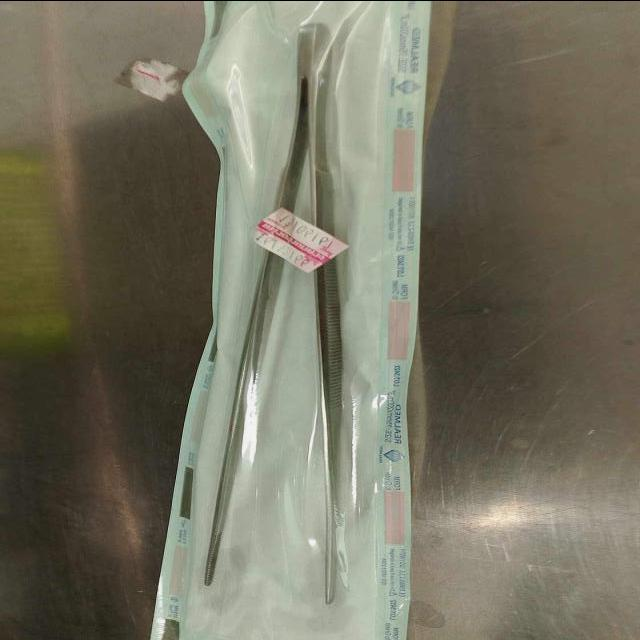General: (146, 1, 433, 638)
Sharps: (201, 27, 314, 587), (295, 22, 345, 605)
